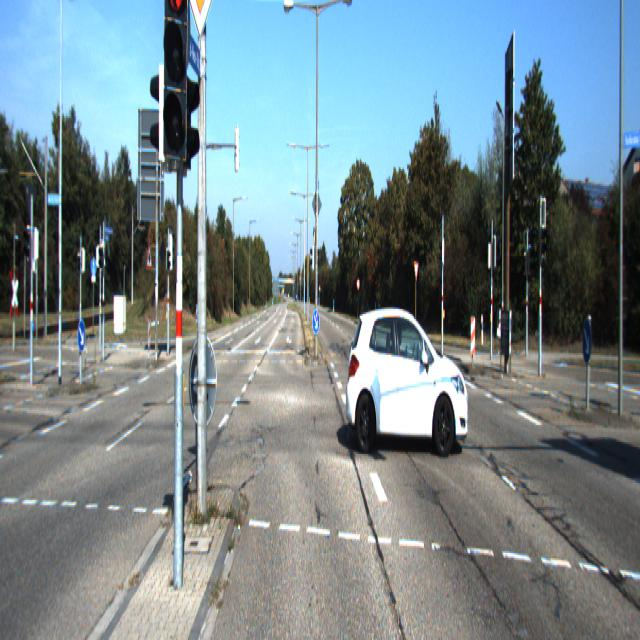Car: (344, 299, 470, 459)
